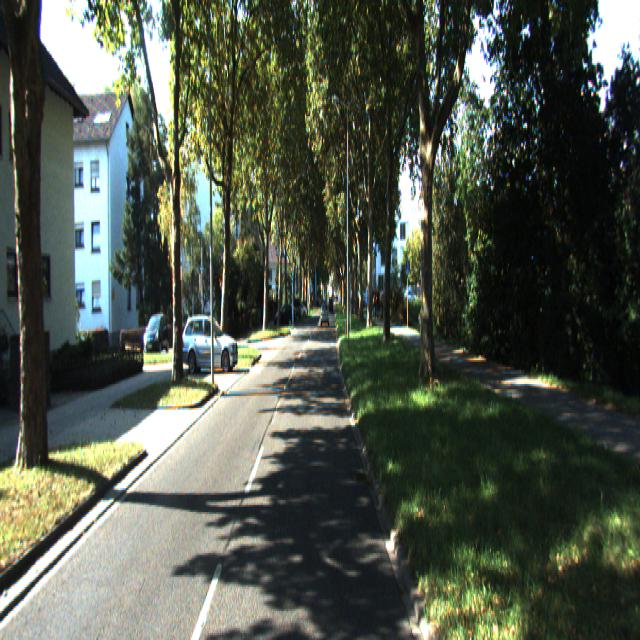Car: (178, 315, 240, 373)
